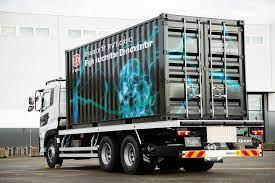Truck: (39, 13, 247, 174)
